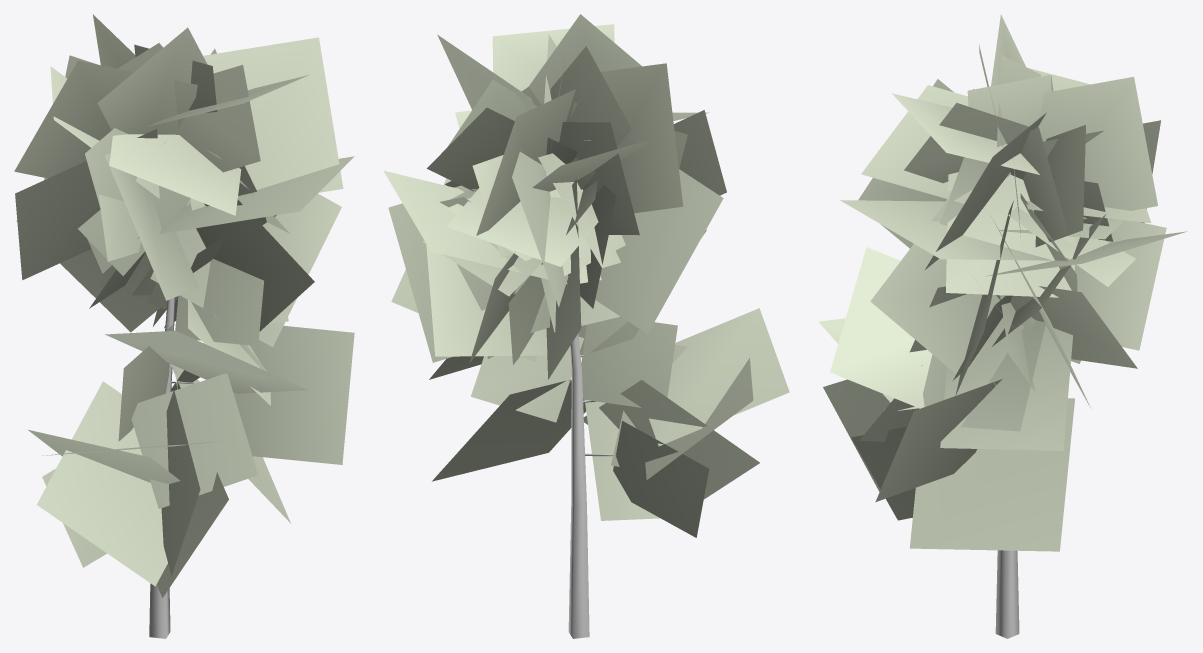
File: sugi2_lo.glb
3 renders of one model, left to right at view 1: azimuth 30°, elevation 25°; view 2: azimuth 150°, elevation 25°; view 3: azimuth 270°, elevation 25°, orthographic. The views are drawn at different scales.
Size of the model in its own units: 13.86 by 24 by 13.51.
